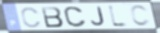B: (40, 6, 65, 29)
C: (63, 5, 88, 28), (129, 4, 152, 27), (20, 6, 42, 29)
J: (90, 6, 106, 27)
L: (107, 3, 131, 29)
